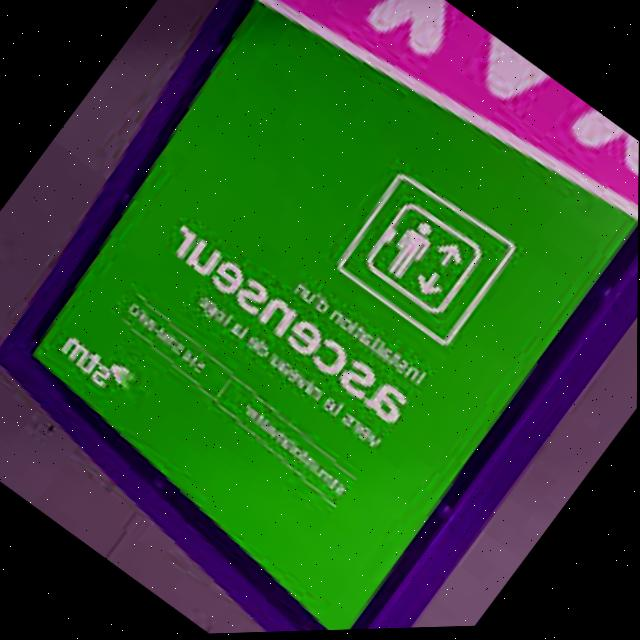elevator: (334, 176, 510, 344)
